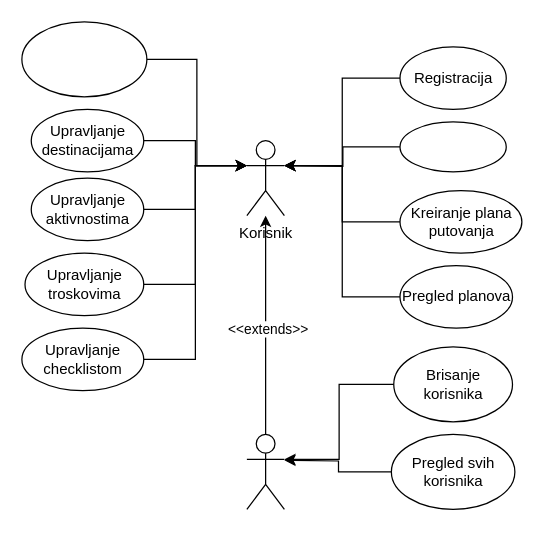
Image size: 544x558. Some labels were removed from this diagram. The shapes that lost their labels are listed below. From the top down, each one's box as (x1, y1, x2, y2) in pixels, then its label:
(21, 21, 147, 97): Preuzimanje PDF sadrzaja
(399, 121, 506, 172): Prijava
(246, 433, 284, 509): Admin
